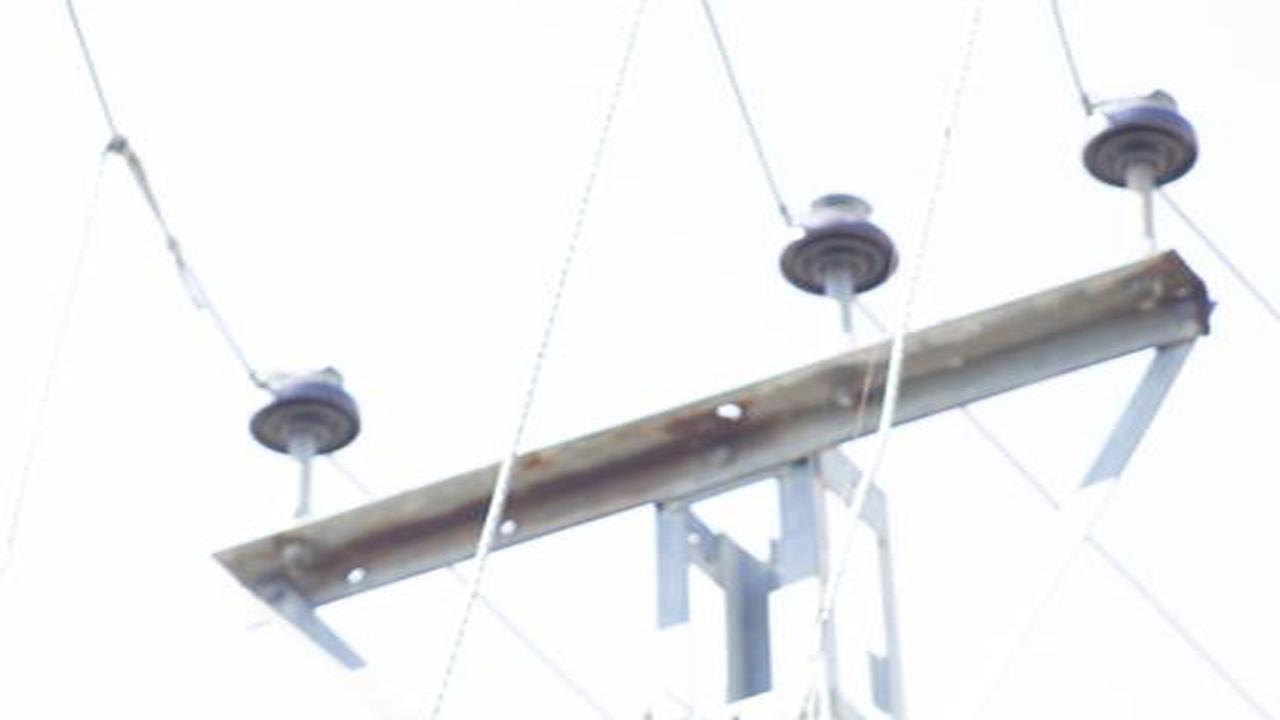insulator_pin: (771, 187, 904, 298), (1075, 87, 1205, 193), (246, 359, 365, 461)
